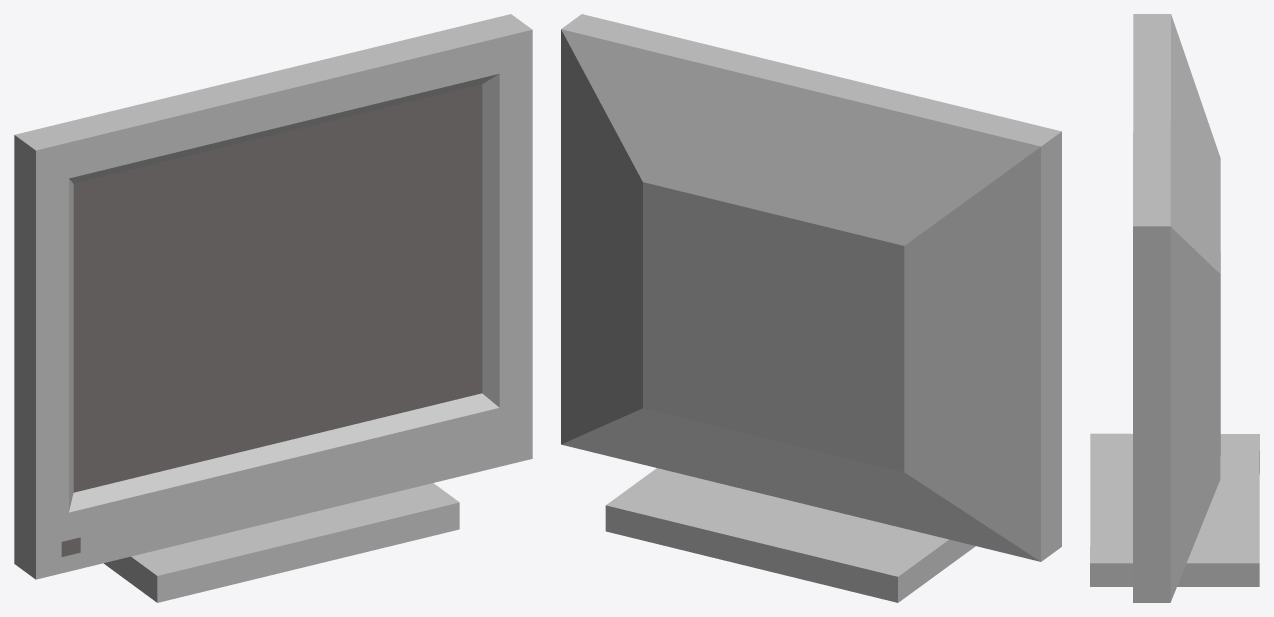
File: SM_Monitor_01.fbx
3 renders of one model, left to right at view 1: azimuth 30°, elevation 25°; view 2: azimuth 150°, elevation 25°; view 3: azimuth 270°, elevation 25°, orthographic. The views are drawn at different scales.
Visible parts, largest first — view 1: SM_Monitor_01; view 2: SM_Monitor_01; view 3: SM_Monitor_01.
Part boxes in pixels (x1,y1,x2,y2): SM_Monitor_01: (14, 14, 532, 602); SM_Monitor_01: (561, 14, 1061, 602); SM_Monitor_01: (1090, 14, 1259, 602).
Size of the model in its own units: 76.22 by 67.23 by 25.73.
1 material, 1 textured.
